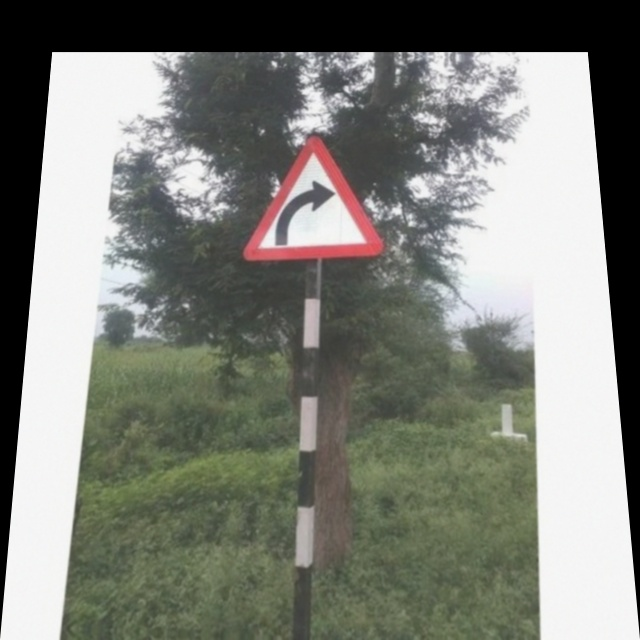Right_Hand_Curve: (238, 131, 395, 264)
